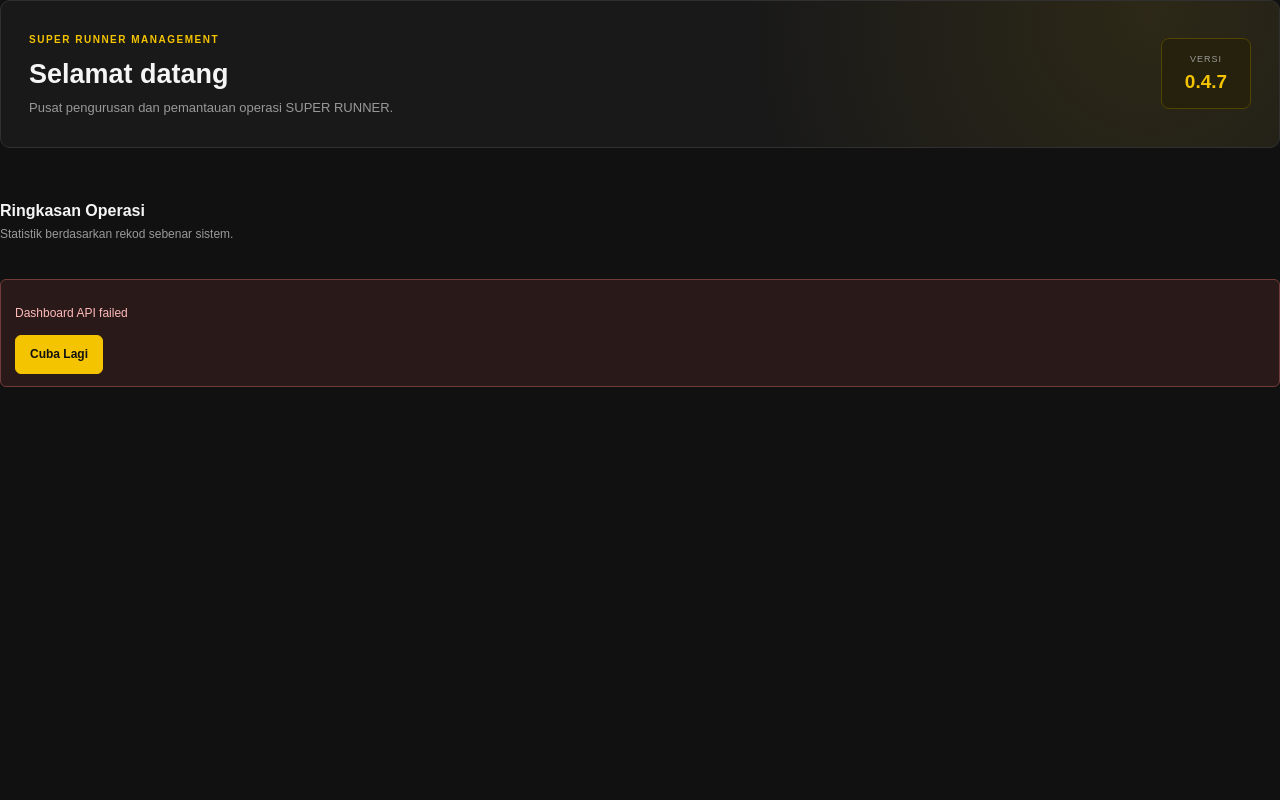
Test case: DashboardPage › membolehkan dashboard dimuatkan semula selepas kegagalan
Click the button "Cuba Lagi" at (59, 355), box [15,335,103,374]
(page scrolled)
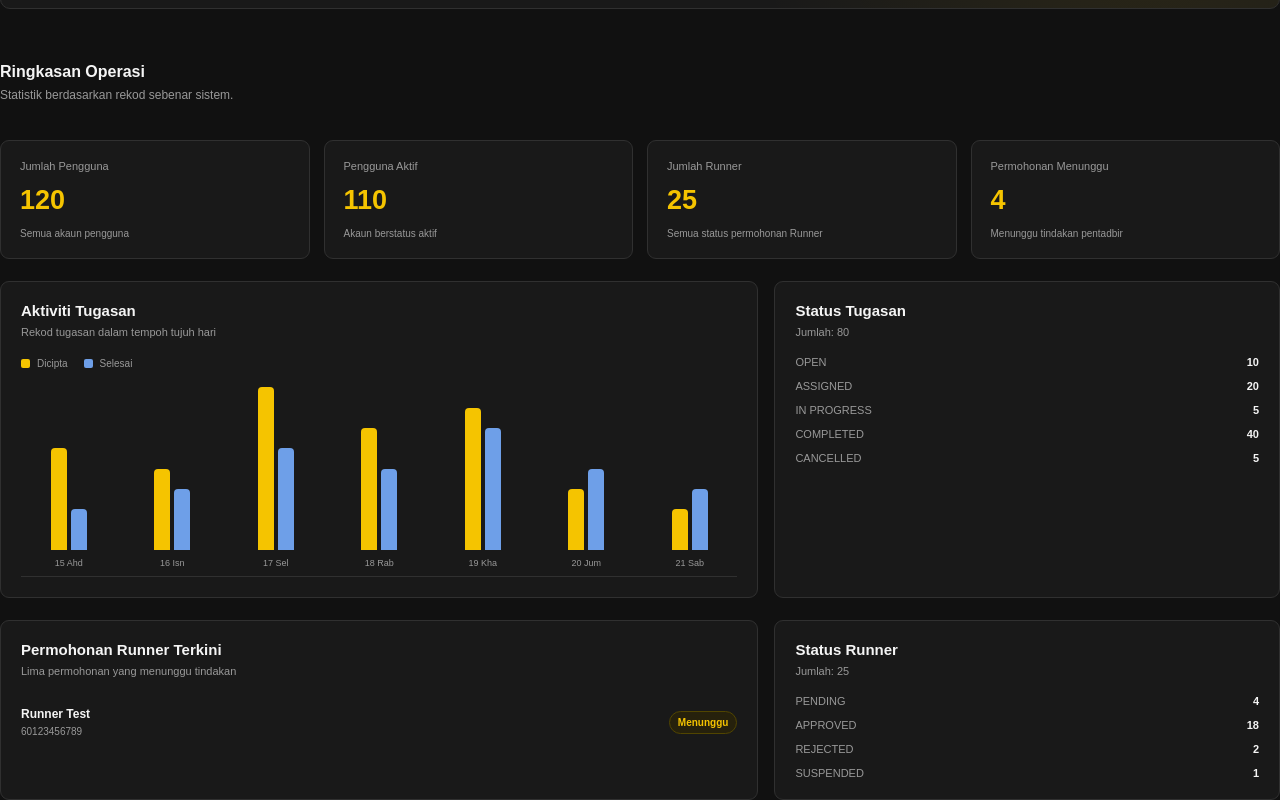
Result: the text "Jumlah Pengguna" is shown at [20,160,109,172]
Result: the text "Runner Test" is shown at [21,707,90,721]
